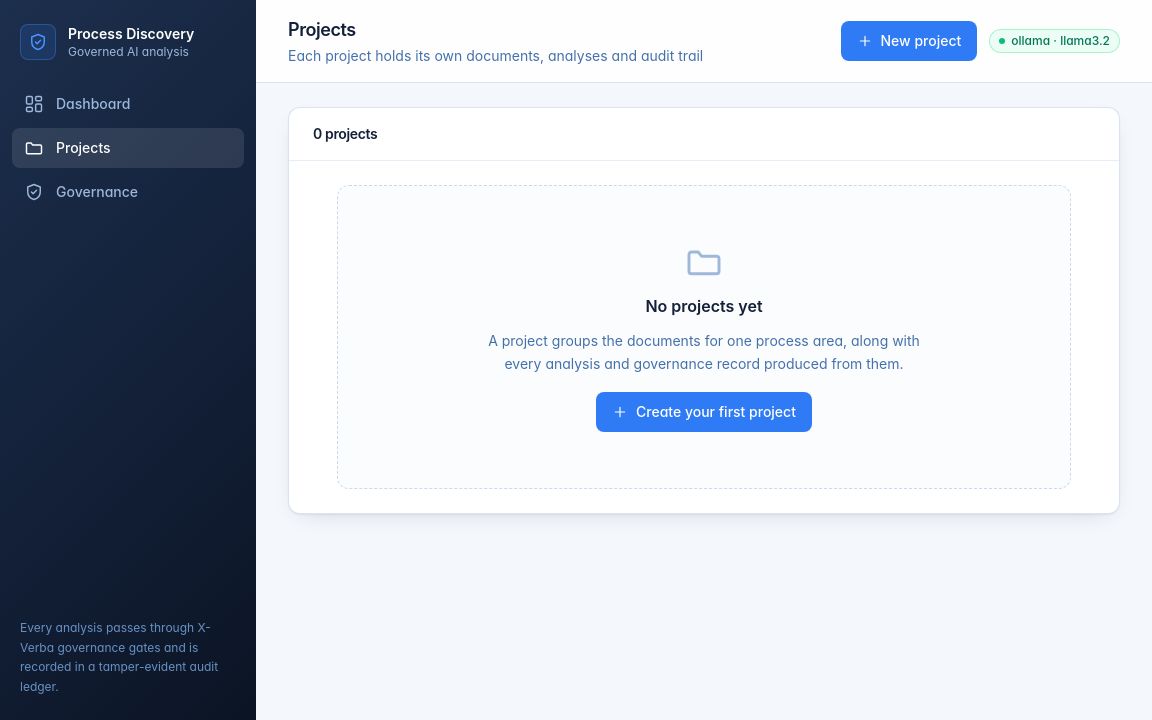
Scenario: Projects › blocks submission until the required fields are filled
Click the button "New project".
click(909, 41)  # box [840,21,977,61]
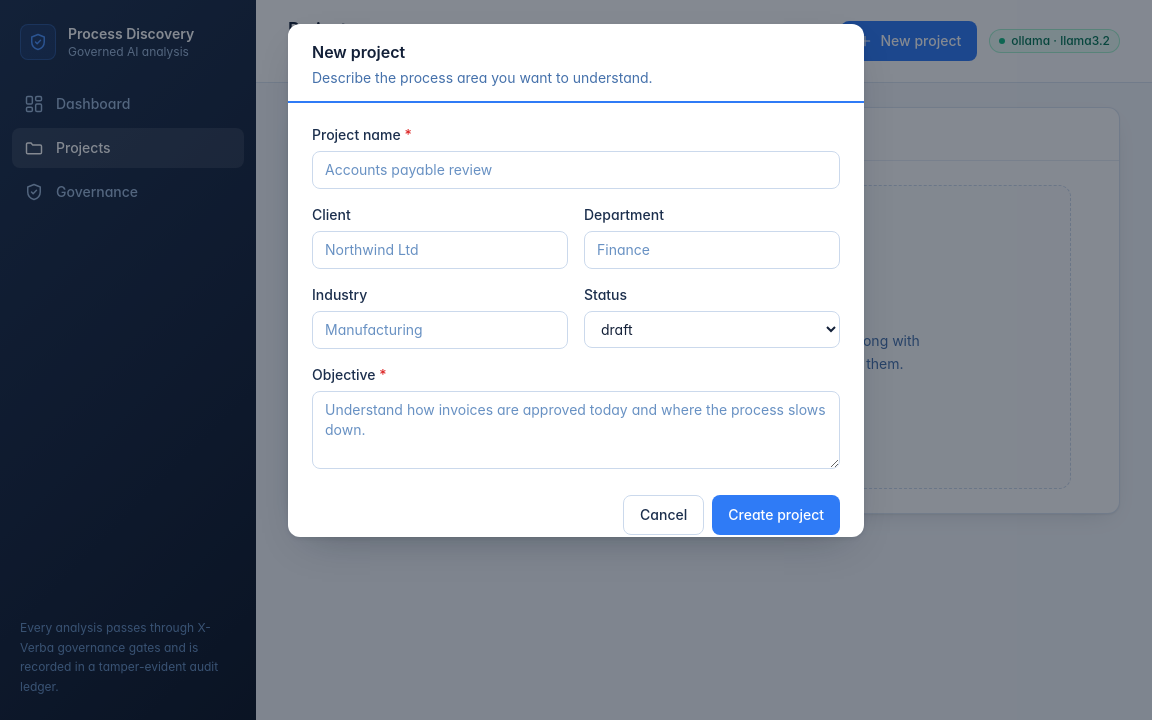
Click the button "Create project".
click(776, 515)  # box [712,495,840,535]
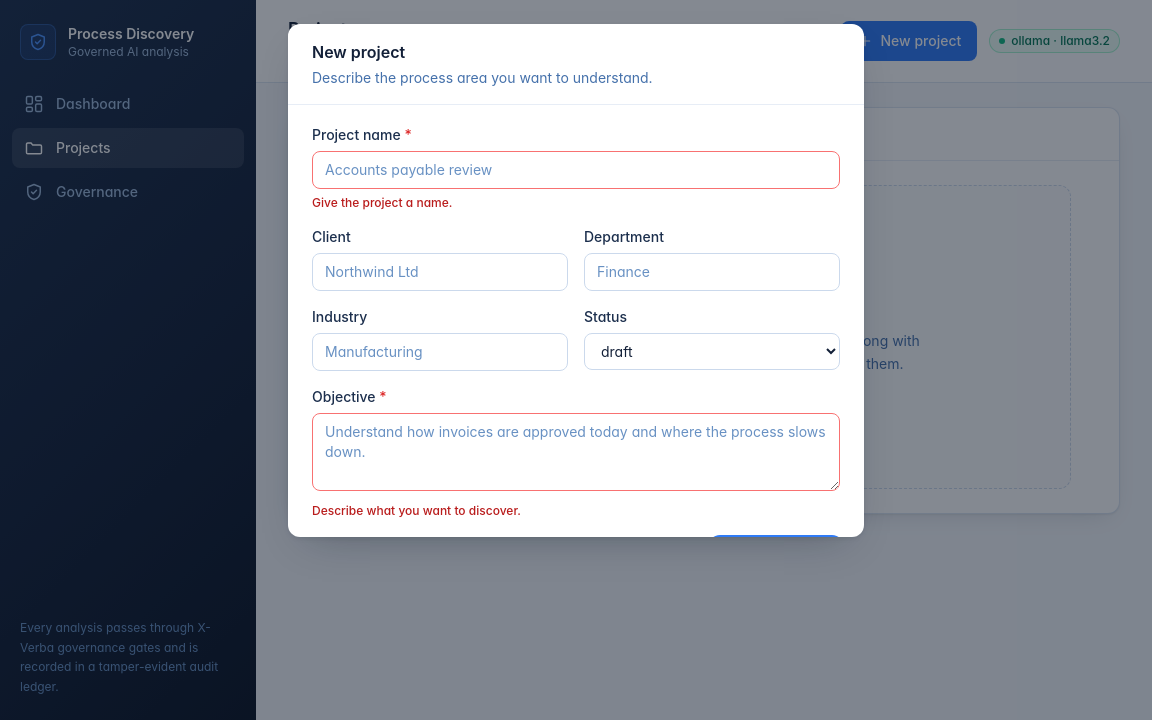
Expected: the text "Give the project a name." is shown, [312,195,452,210]
Expected: the text "Describe what you want to discover." is shown, [312,503,521,518]
